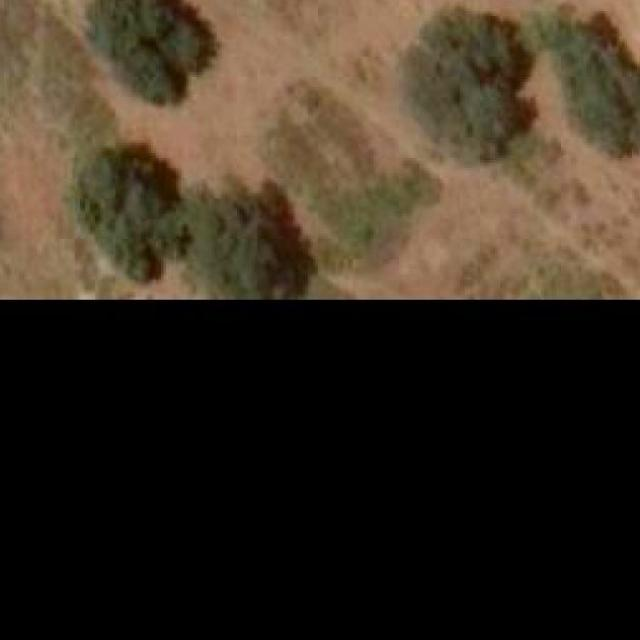Tree: (409, 8, 529, 158), (80, 146, 191, 272), (188, 188, 313, 298), (541, 13, 640, 143), (99, 0, 214, 95)
